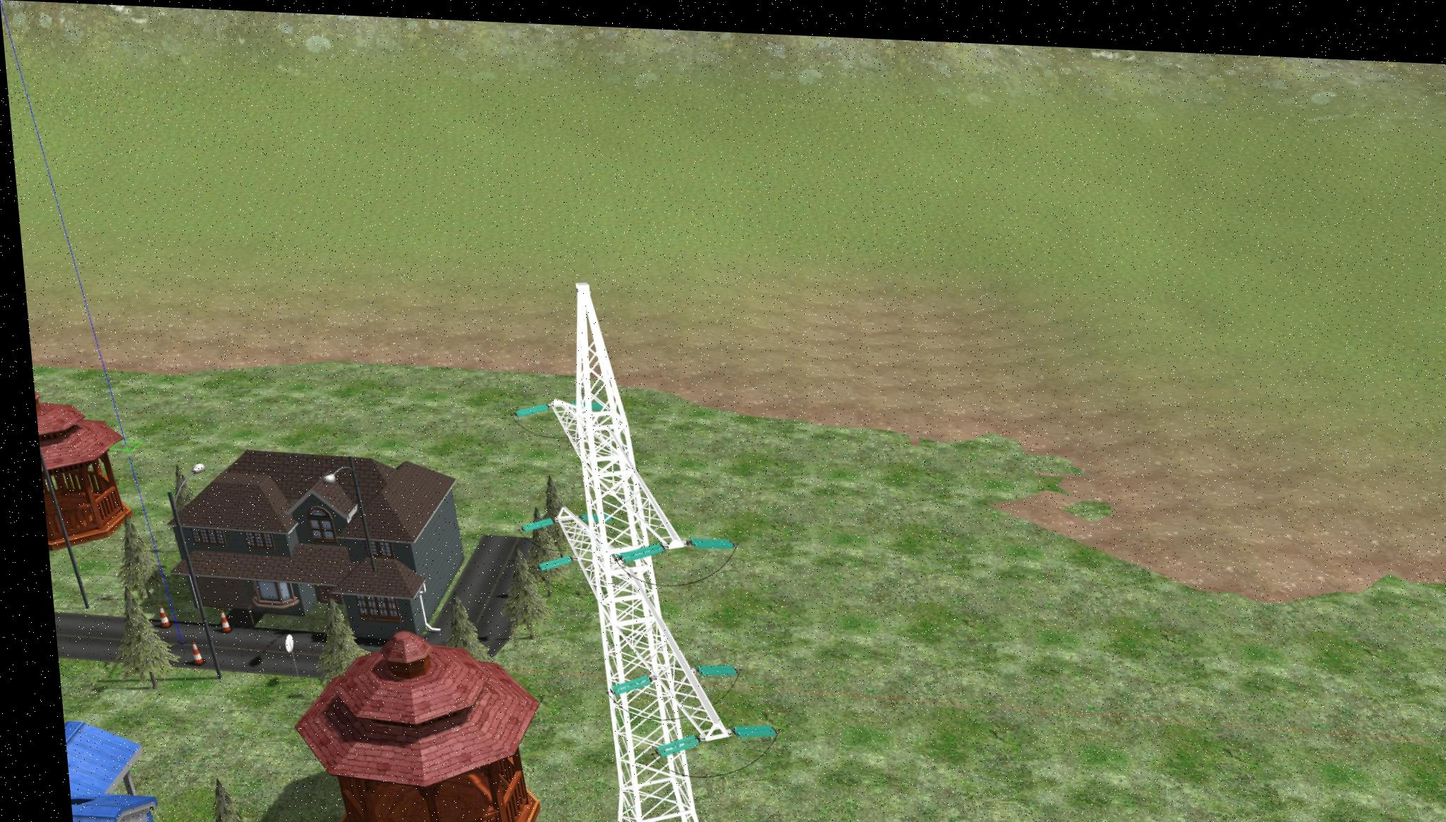tower: (535, 278, 736, 822)
